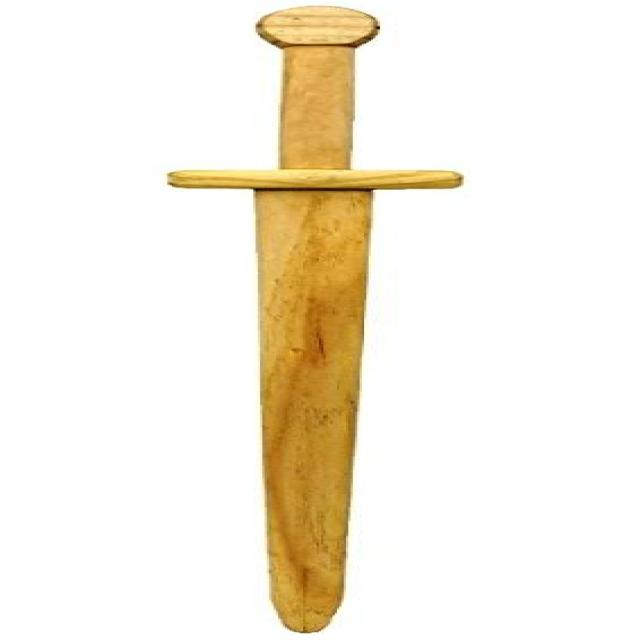weapon: (170, 4, 475, 640)
